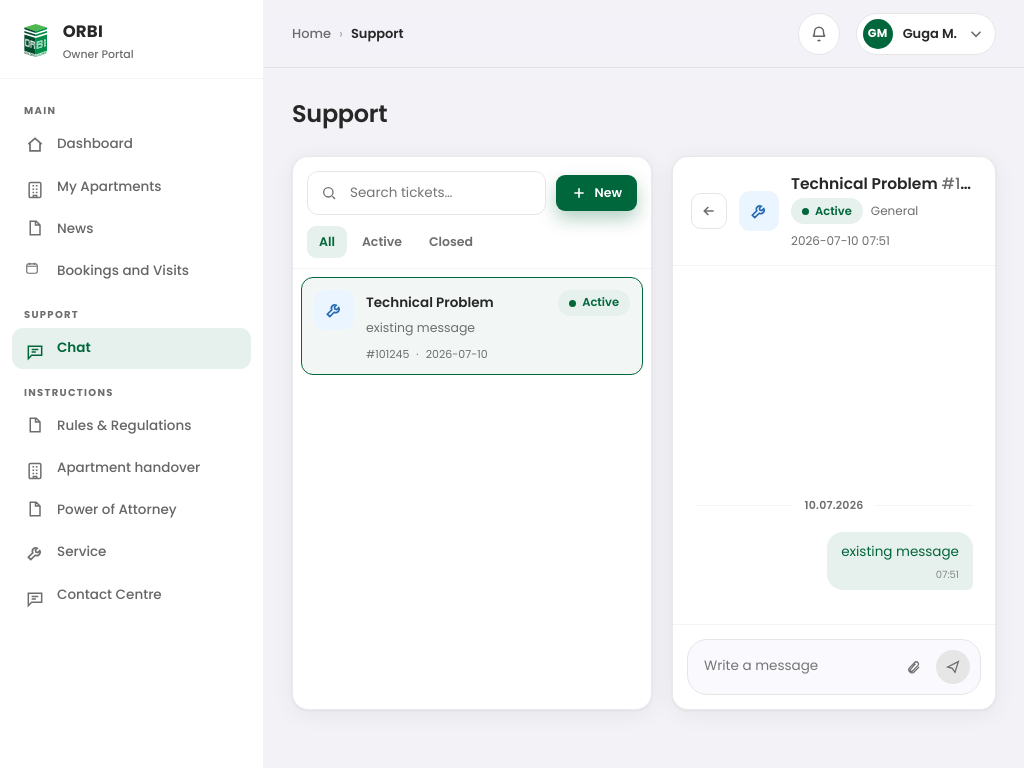
Test case: TicketChatPane (real mode) › a rejected send shows a toast, restores the Send button, and keeps the draft
Type "still typing this" into the text box with placeholder "Write a message".
click(797, 667); type("still typing this")  # box left=704, top=650, right=890, bottom=684
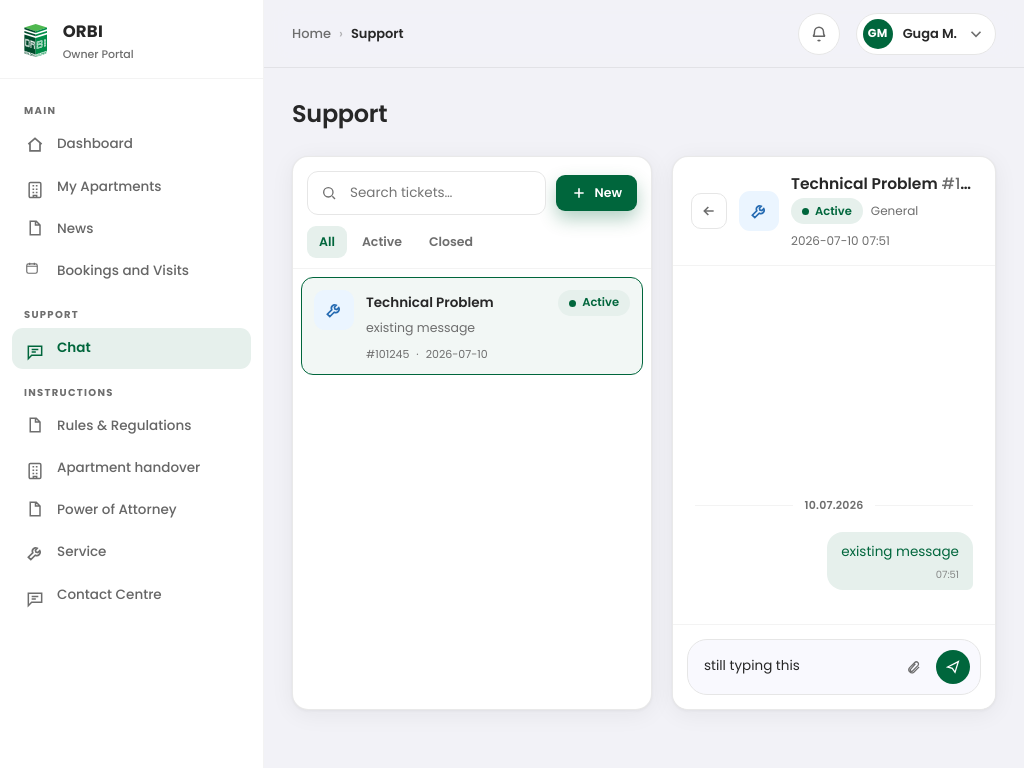
Click the button named "Send".
click(953, 667)  # box left=936, top=650, right=970, bottom=684
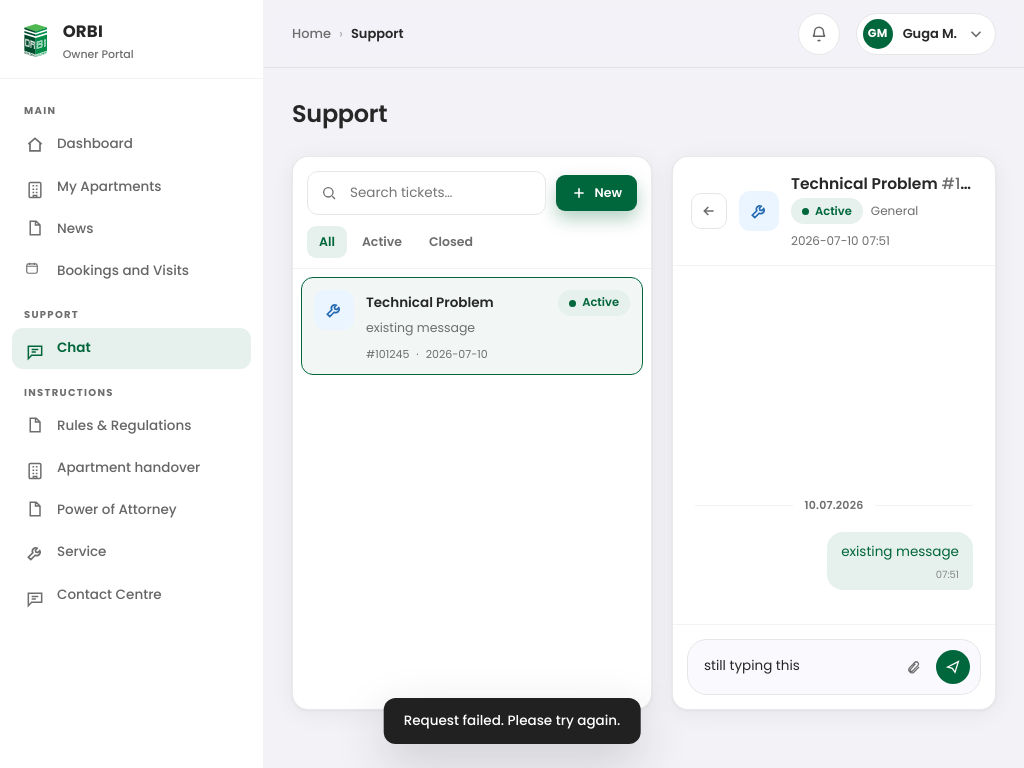
Check: the button named "Send" is enabled, box left=936, top=650, right=970, bottom=684
Check: the text "Request failed. Please try again." is shown, box left=384, top=698, right=640, bottom=744
